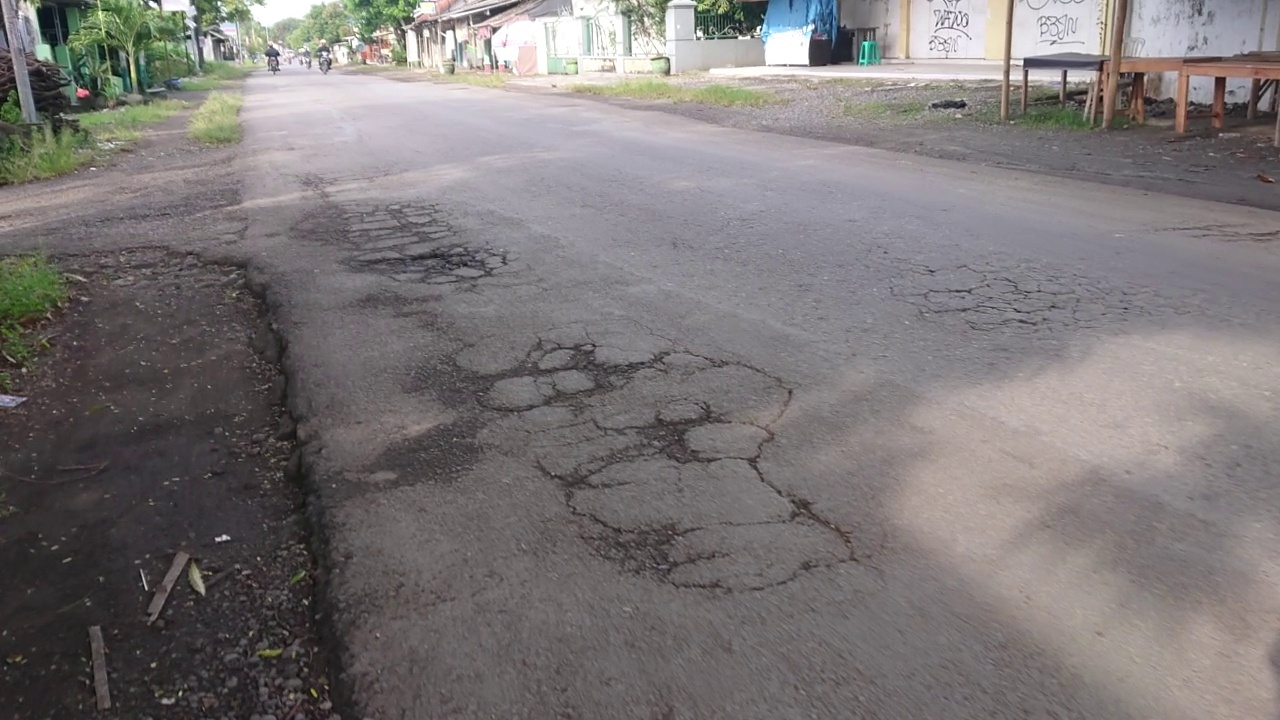Retak: (413, 323, 827, 596), (350, 195, 503, 305), (918, 264, 1092, 340)
